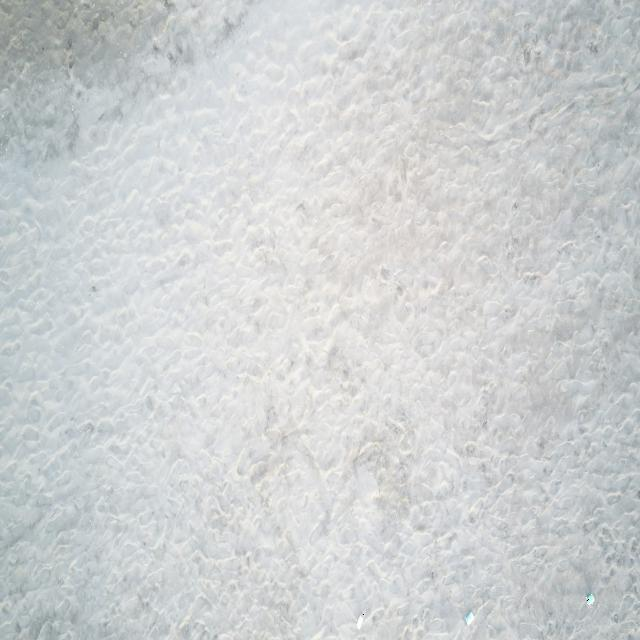tin-and-aluminum-cans: (356, 612, 364, 631), (586, 593, 595, 607), (466, 610, 474, 624)
